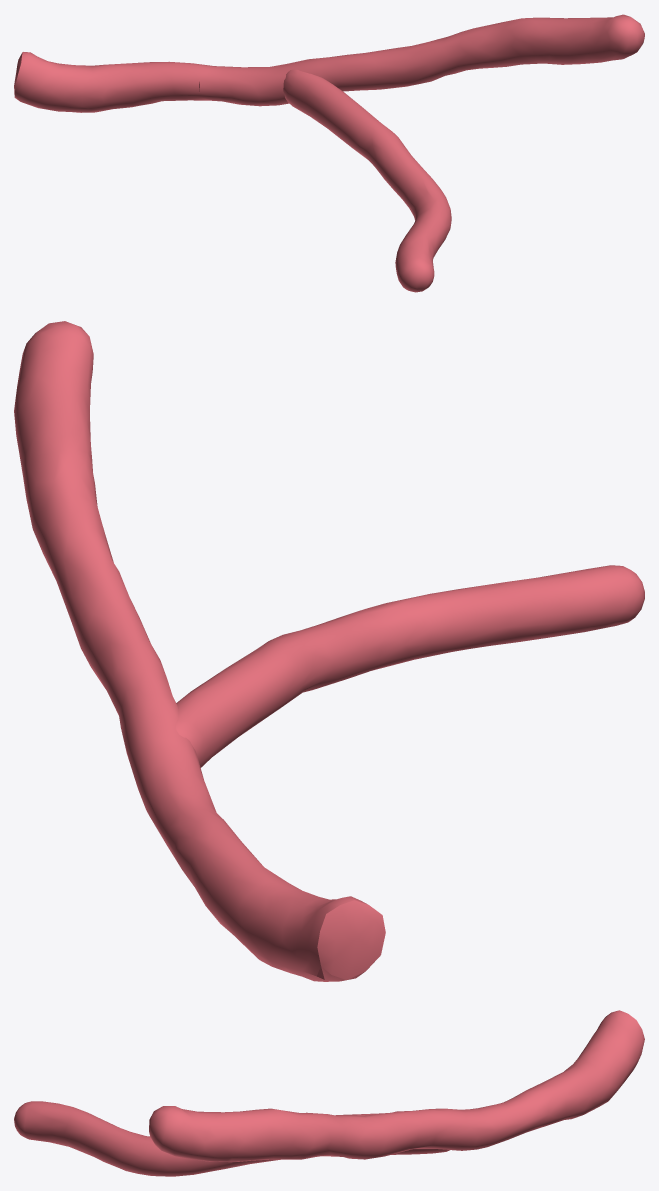
File: fma52211_mm3623.glb
3 views of the same model, one above another, from view 1: azimuth 30°, elevation 25°; view 2: azimuth 150°, elevation 25°; view 3: azimuth 270°, elevation 25° (orthographic). The views are drawn at different scales.
Parts seen in each view (by area): view 1: FMA52211_MM3623; view 2: FMA52211_MM3623; view 3: FMA52211_MM3623.
Part boxes in pixels (left/top/right/bottom): FMA52211_MM3623: left=14, top=14, right=644, bottom=292; FMA52211_MM3623: left=14, top=321, right=644, bottom=981; FMA52211_MM3623: left=14, top=1010, right=644, bottom=1176.
Size of the model in its own units: 0.0336 by 0.0122 by 0.041.
